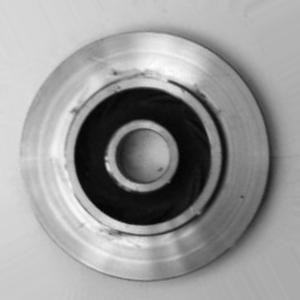defect: (54, 60, 229, 244)
